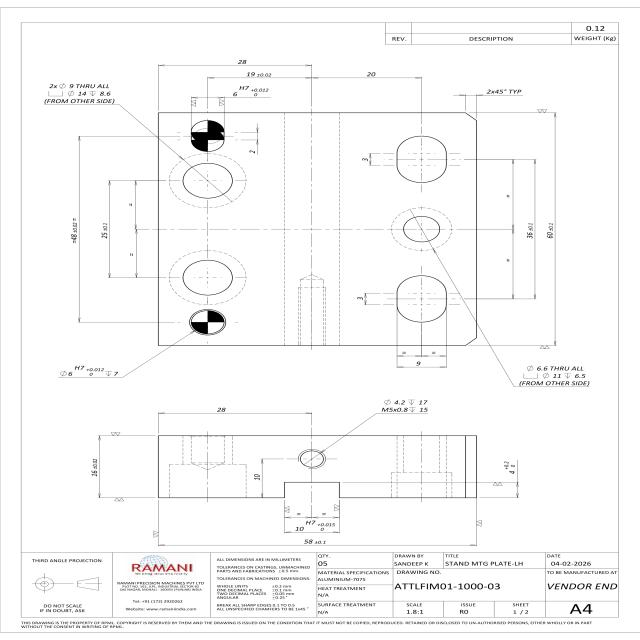dimension: (41, 83, 116, 104), (517, 365, 591, 386), (58, 364, 120, 378), (380, 399, 429, 413), (294, 520, 335, 532), (232, 85, 270, 96), (69, 217, 79, 244), (484, 88, 522, 94), (503, 460, 516, 475), (90, 458, 100, 477), (302, 538, 328, 545), (245, 71, 274, 77), (526, 222, 535, 240), (100, 222, 109, 239), (546, 222, 554, 239), (236, 59, 251, 65), (252, 473, 262, 482), (365, 72, 378, 77), (216, 407, 228, 412), (355, 296, 364, 301), (248, 149, 256, 154), (360, 158, 369, 162), (415, 361, 422, 366)
